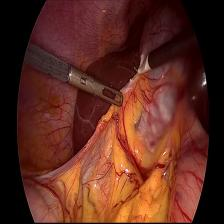Grasper: (69, 68, 124, 110)
Hook: (132, 53, 152, 78)
